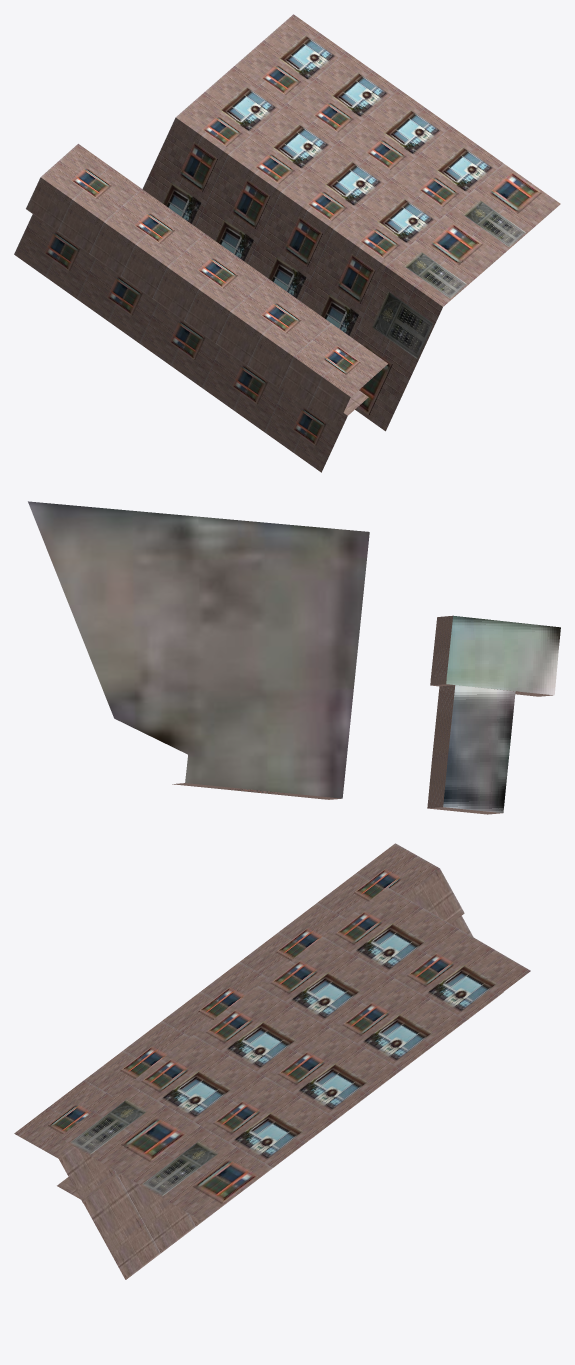
3 views of the same model, one above another, from view 1: azimuth 30°, elevation 25°; view 2: azimuth 150°, elevation 25°; view 3: azimuth 270°, elevation 25° (orthographic). The views are drawn at different scales.
Bounding box in the file's own units: 23.88 × 15.24 × 19.74.
Materials: 8 (8 with a texture image).
